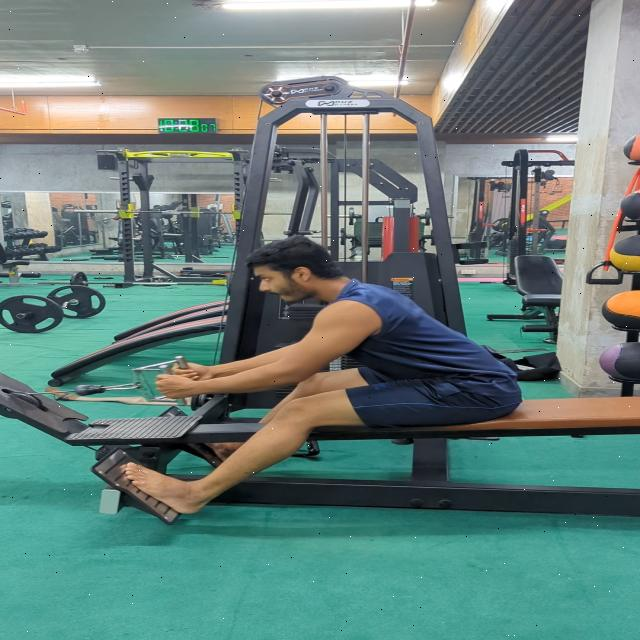Normal_RowingMachineExercise: (119, 236, 529, 517)
